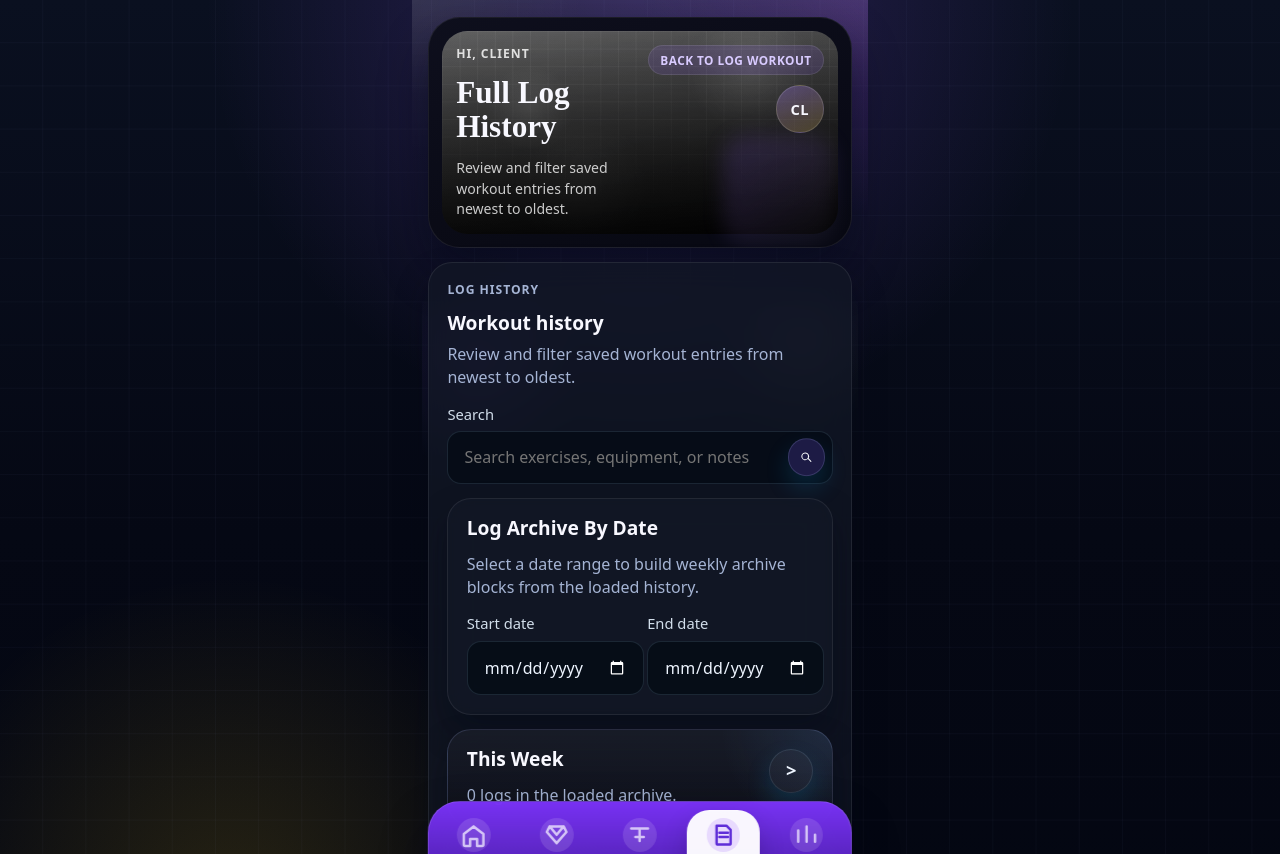
it: Client history routes mobile experience › clears the add-log full-history search from the overlay action and refetches the unfiltered route
Type "bench" into the search field labelled "Search" at (640, 457), box left=447, top=431, right=833, bottom=484
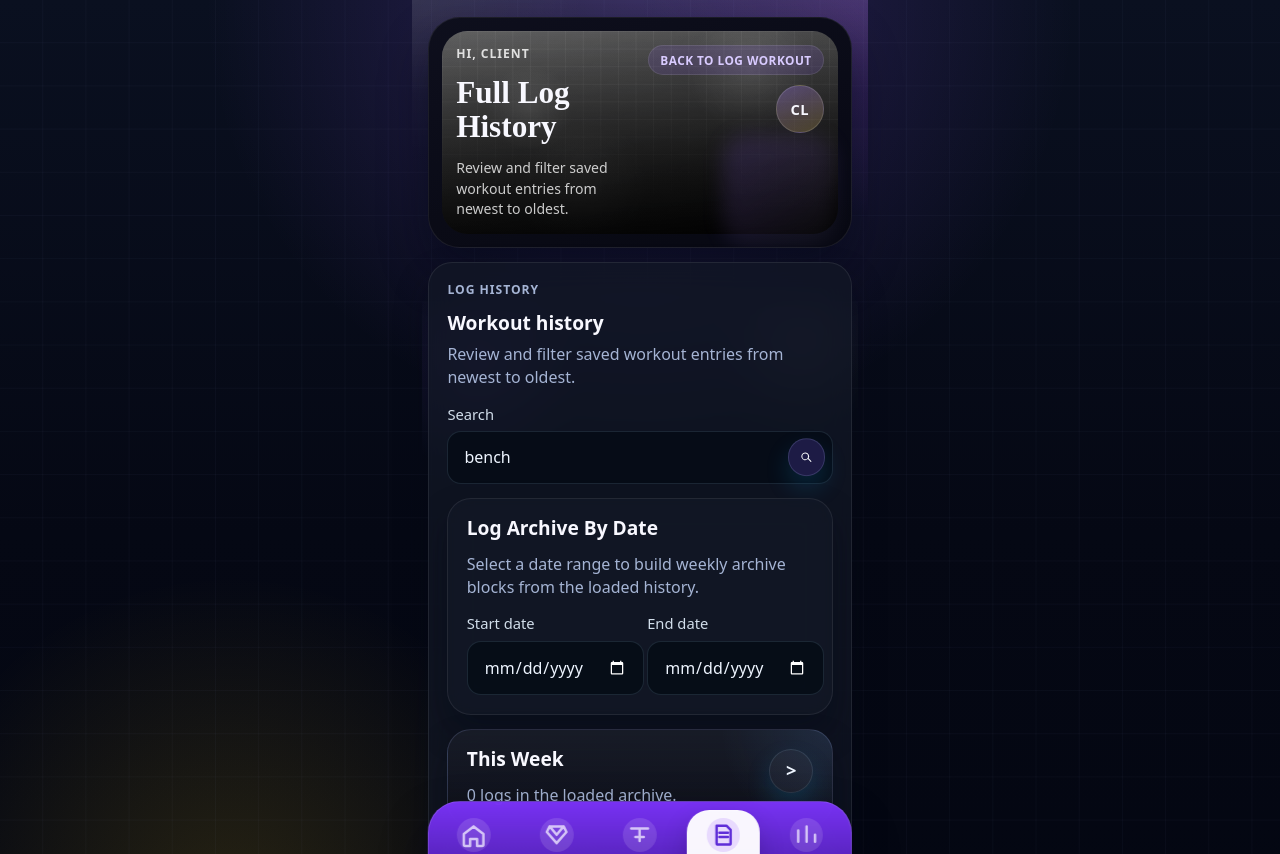
Click the button named "Search workout history" at (807, 457), box left=788, top=439, right=825, bottom=476
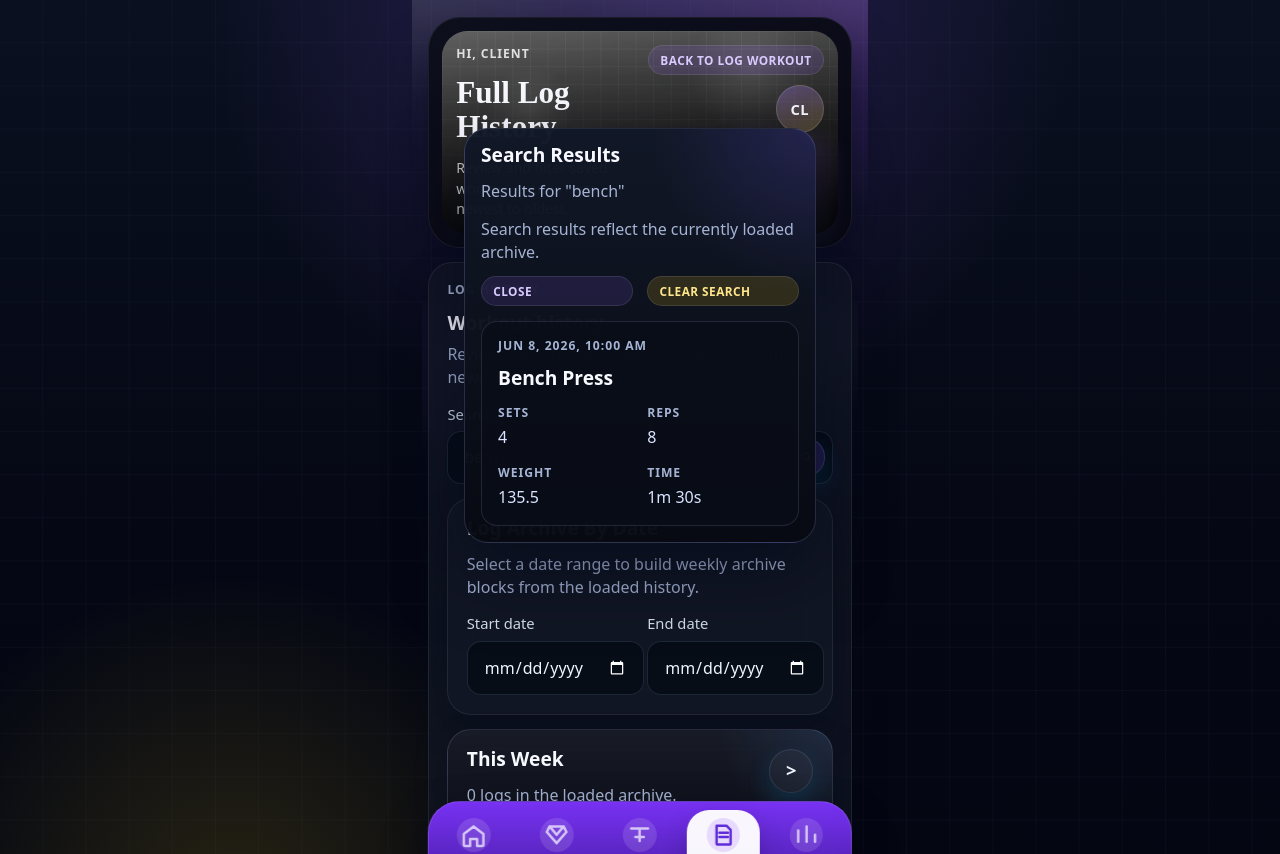
Click the button "Clear search" at (723, 291), box left=647, top=276, right=799, bottom=306
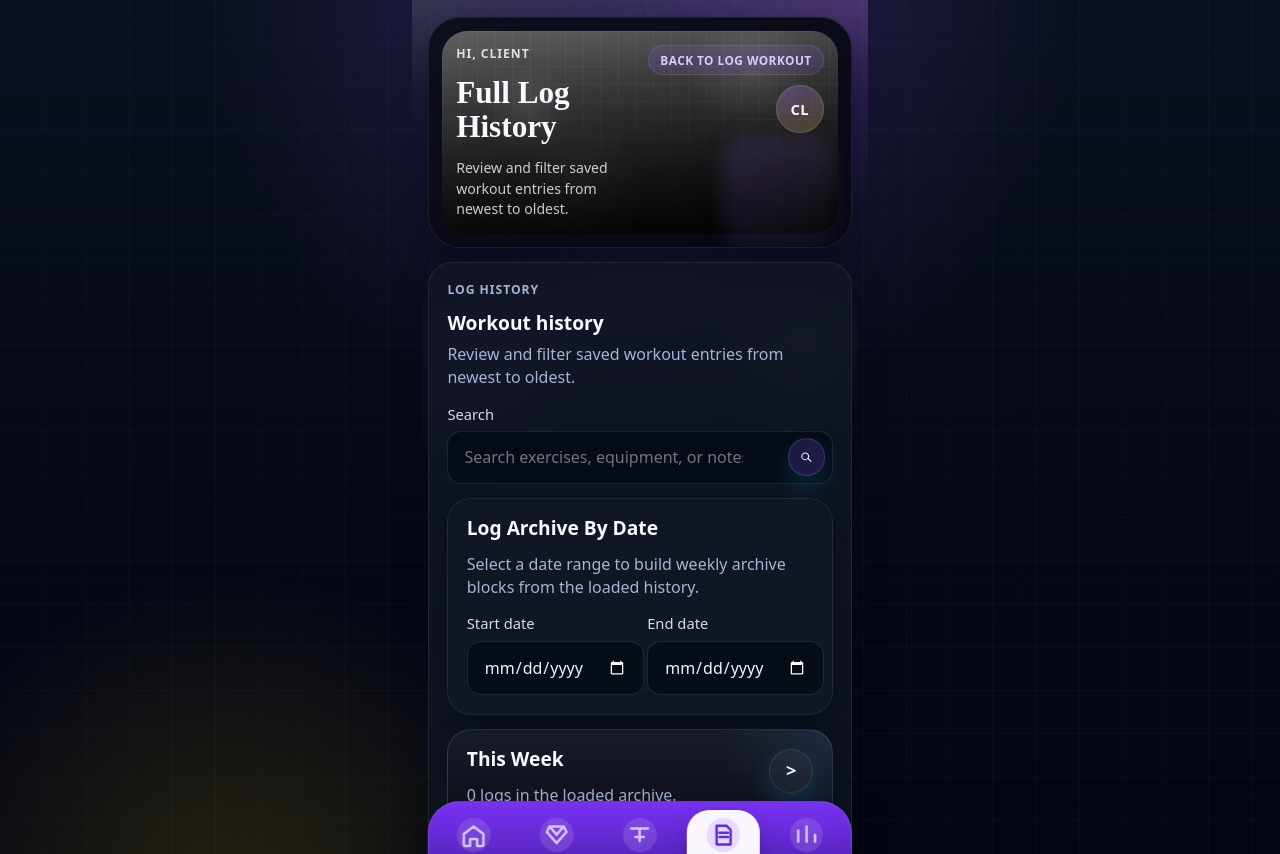
Result: the search field labelled "Search" is empty at left=447, top=431, right=833, bottom=484
Result: the heading "Search Results" is gone
